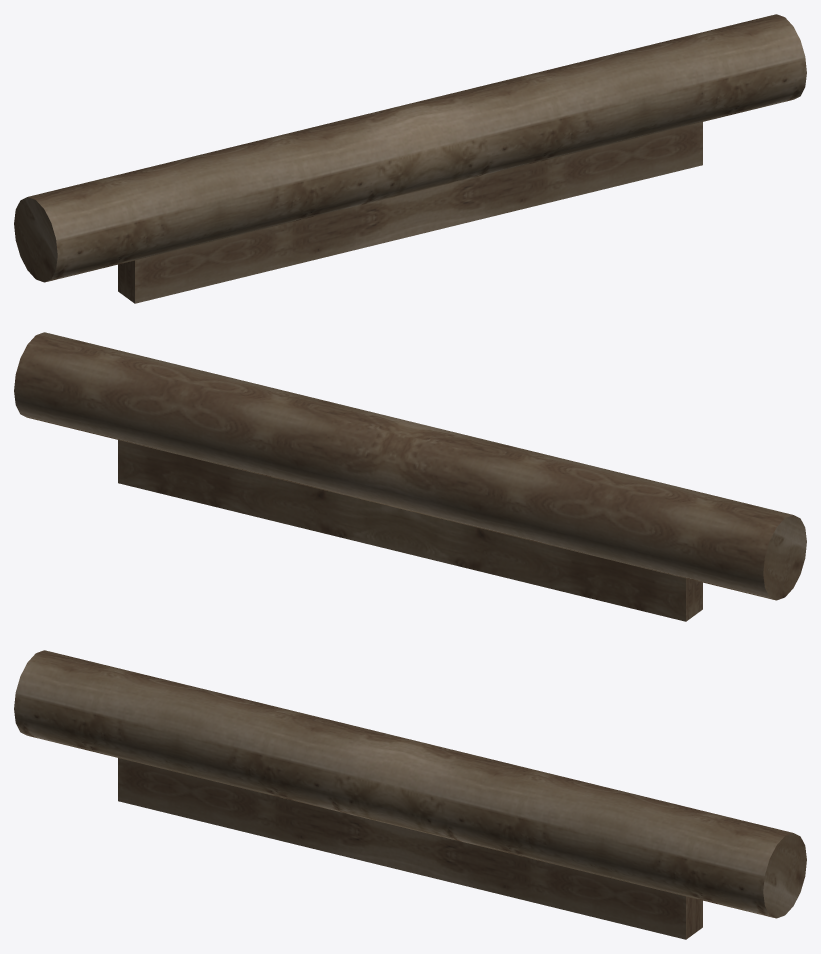
The model's file is SM_Sun_Won_Dori_B.fbx.
The picture shows the model from 3 angles, top to bottom: view 1: azimuth 30°, elevation 25°; view 2: azimuth 150°, elevation 25°; view 3: azimuth 330°, elevation 25°; orthographic projection.
Parts seen in each view (by area): view 1: SM_Sun_Won_Dori_B; view 2: SM_Sun_Won_Dori_B; view 3: SM_Sun_Won_Dori_B.
Part boxes in pixels (box(x1,y1,x2,y2)): SM_Sun_Won_Dori_B: box(14, 14, 806, 303); SM_Sun_Won_Dori_B: box(14, 332, 806, 621); SM_Sun_Won_Dori_B: box(14, 650, 806, 939).
Bounding box in the file's own units: 277 × 42.18 × 28.
